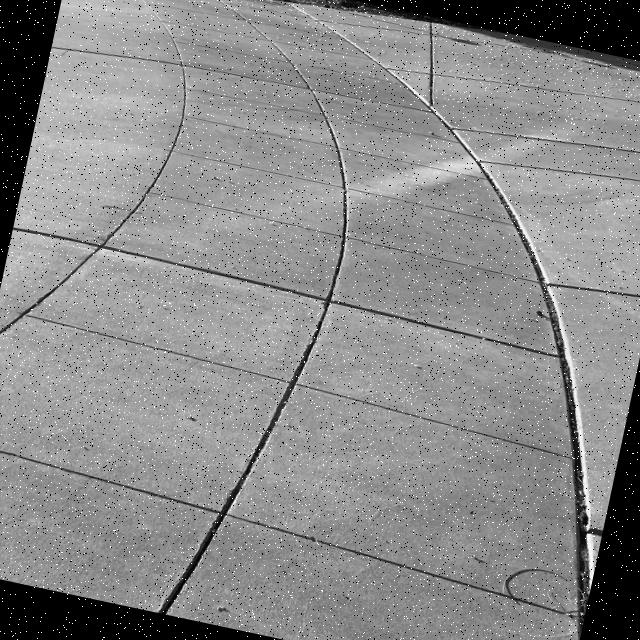walkway: (0, 313, 581, 584), (0, 393, 578, 640), (78, 250, 560, 492), (142, 153, 516, 362), (167, 70, 451, 236), (126, 0, 388, 102)
